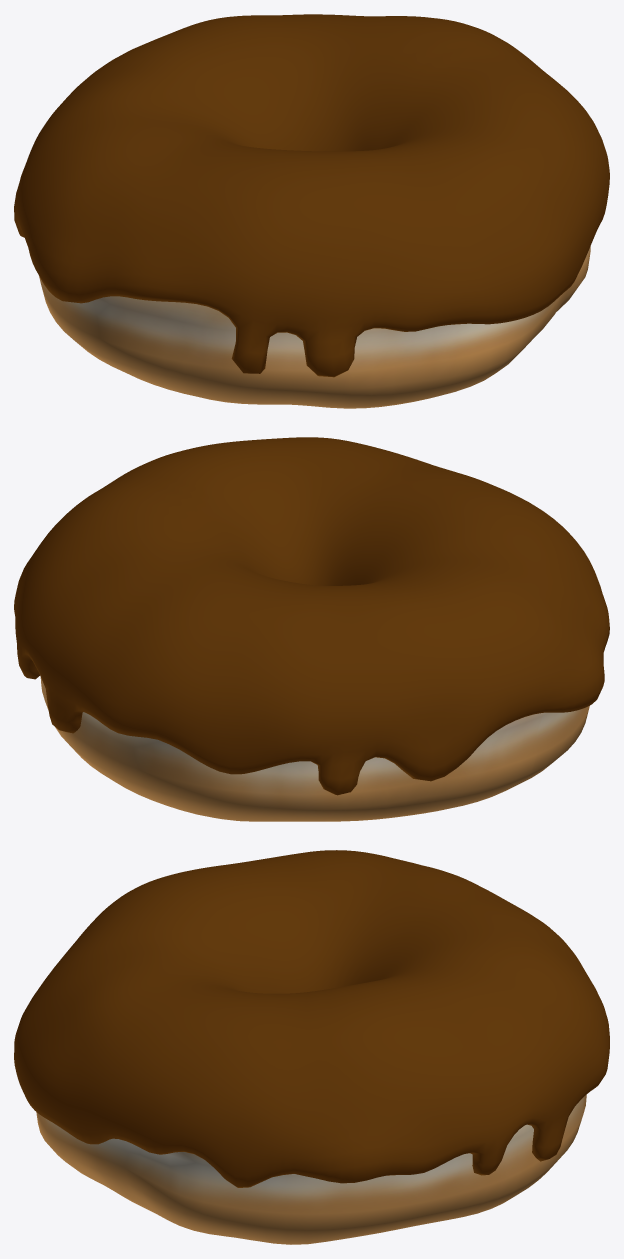
File: DonutTutoeial.glb
3 renders of one model, top to bottom at view 1: azimuth 30°, elevation 25°; view 2: azimuth 150°, elevation 25°; view 3: azimuth 270°, elevation 25°, orthographic.
Visible parts, largest first — view 1: Ice, Donut; view 2: Ice, Donut; view 3: Ice, Donut.
Part boxes in pixels (x1,y1,x2,y2): Ice: [14, 14, 609, 377]; Donut: [39, 246, 590, 408]; Ice: [14, 437, 609, 795]; Donut: [40, 677, 589, 821]; Ice: [14, 850, 609, 1187]; Donut: [36, 1095, 586, 1244].
Bounding box in the file's own units: 0.1059 × 0.0436 × 0.1006.
Materials: 2 (1 with a texture image).
